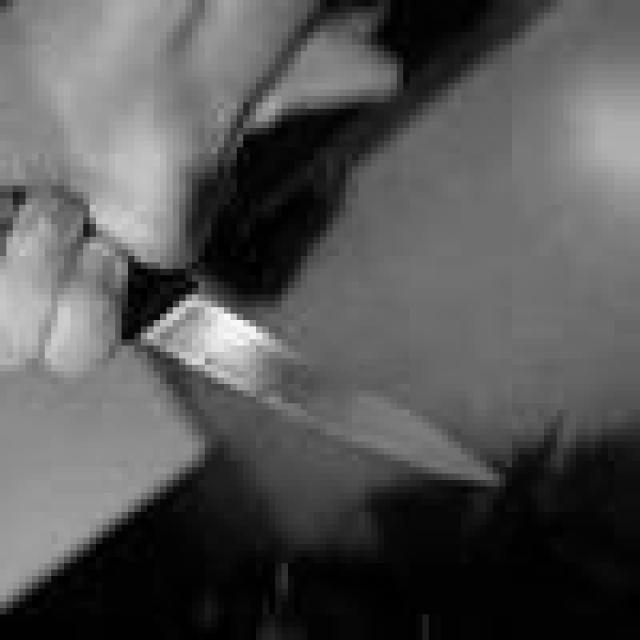knife: (134, 270, 505, 488)
